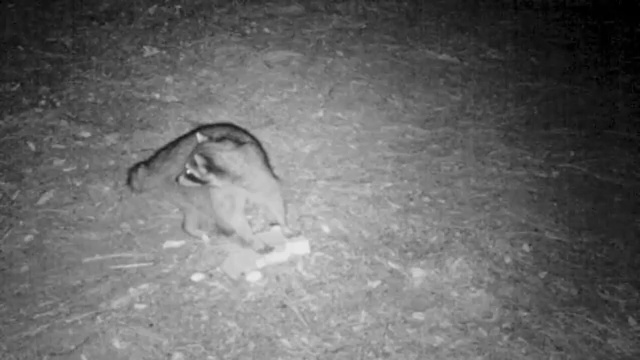raccoon: (125, 116, 311, 265)
